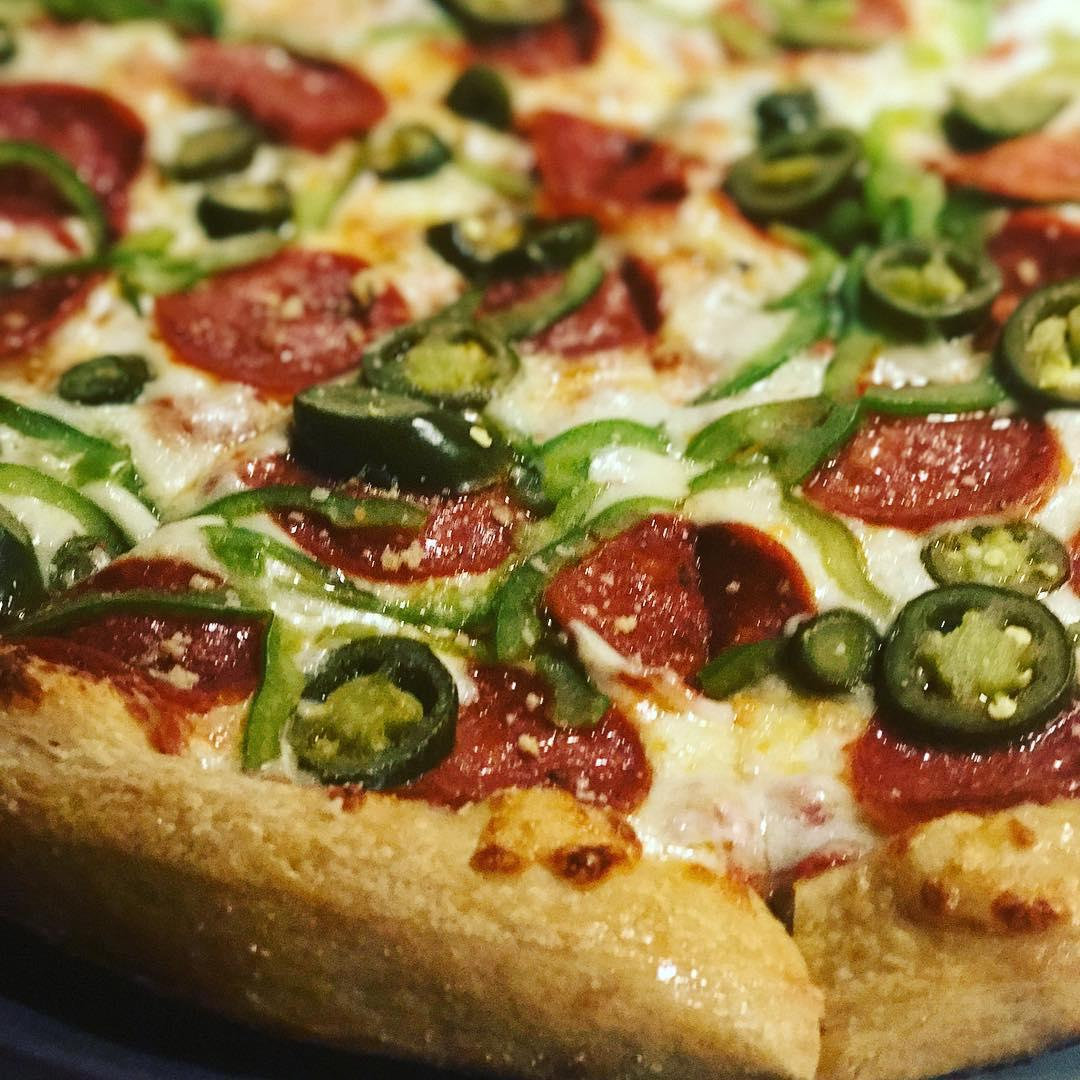Pepperoni: (545, 522, 811, 685), (150, 239, 404, 390), (404, 685, 665, 820), (26, 562, 268, 707), (252, 447, 525, 566), (794, 407, 1067, 525), (159, 27, 389, 147), (854, 716, 1080, 825), (493, 107, 697, 227), (0, 84, 147, 211), (474, 259, 666, 349), (929, 133, 1080, 199), (994, 216, 1080, 302)
Peppers: (878, 585, 1075, 749), (289, 638, 460, 789), (282, 391, 519, 494), (749, 221, 837, 405), (357, 320, 523, 406), (0, 459, 139, 561), (858, 239, 993, 335), (727, 127, 861, 217), (682, 389, 842, 462), (521, 420, 670, 495), (994, 279, 1080, 407), (186, 496, 432, 539), (239, 605, 296, 777), (944, 81, 1070, 151), (922, 527, 1072, 585), (789, 610, 877, 690), (200, 184, 298, 235), (166, 128, 263, 174), (59, 353, 149, 402), (445, 69, 513, 131), (370, 128, 452, 177), (864, 380, 995, 407)
Pizza: (0, 0, 1080, 1080)
